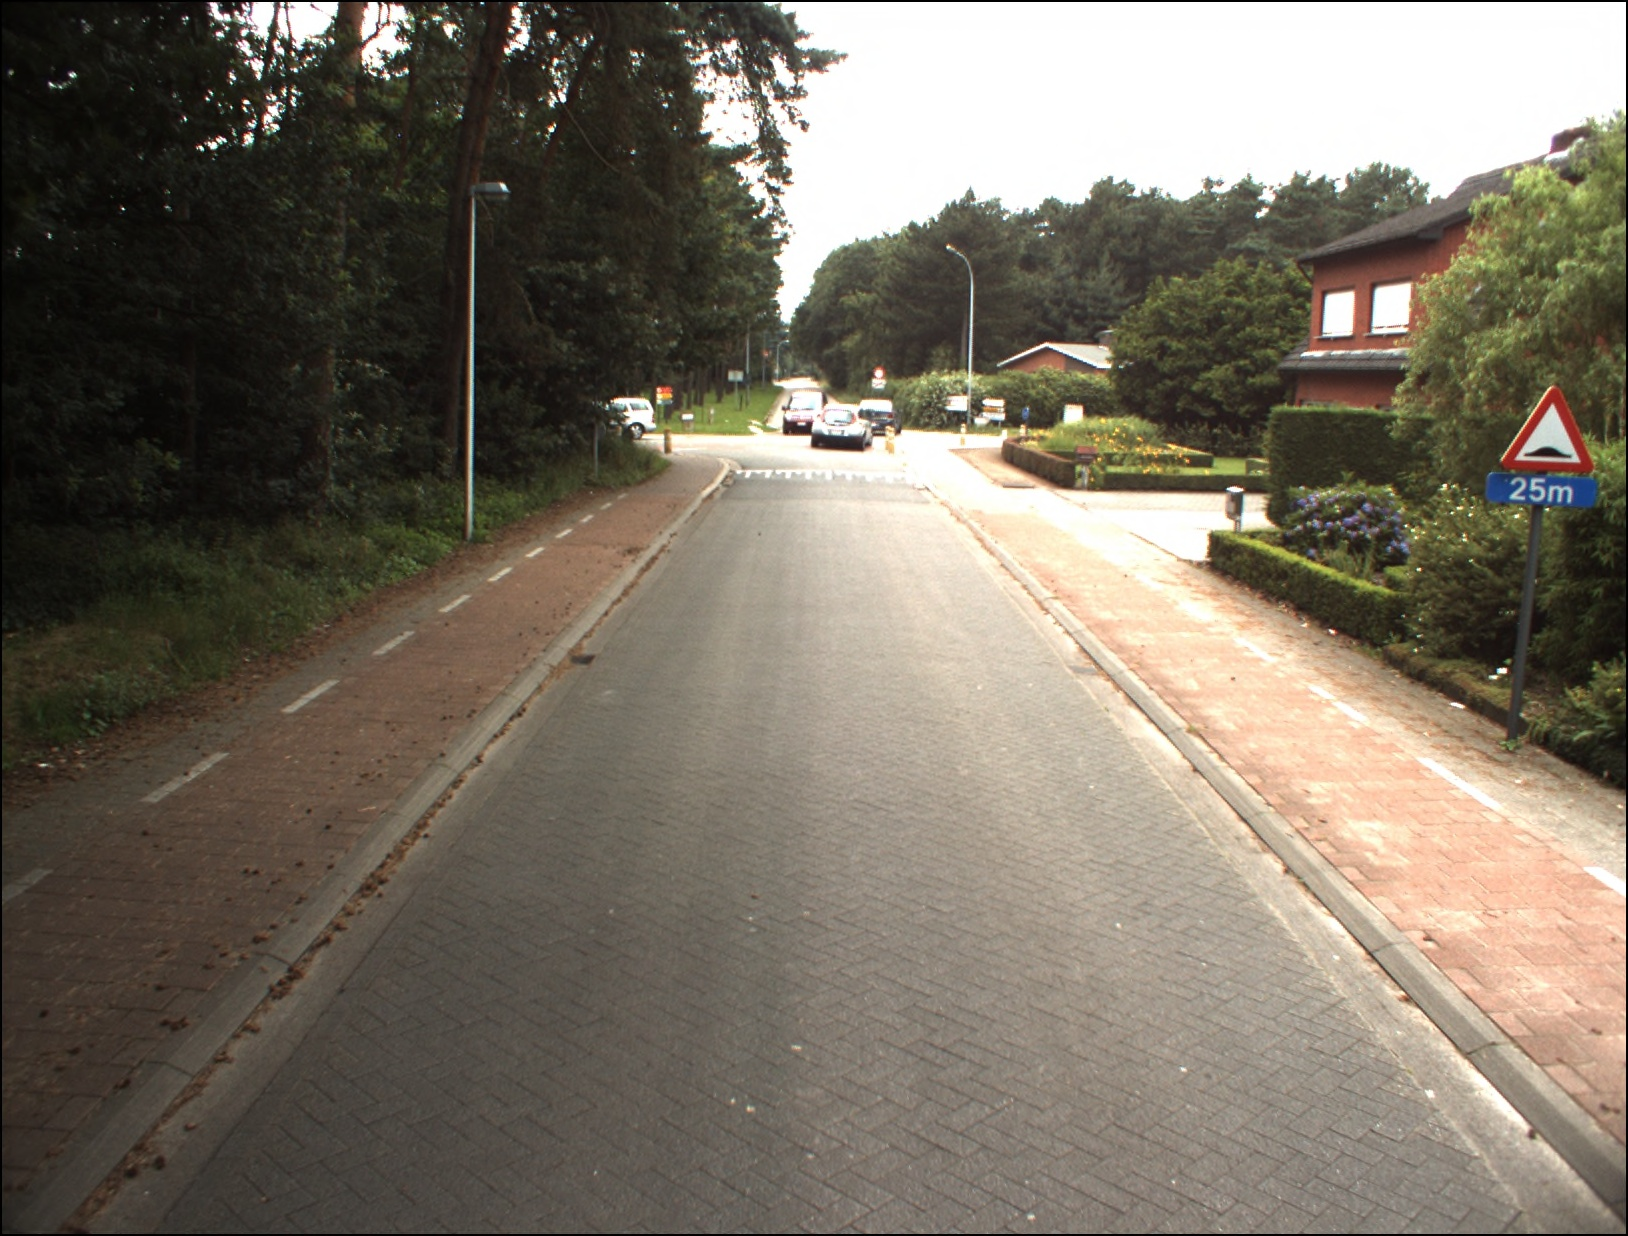speedbump: (1502, 384, 1594, 480)
